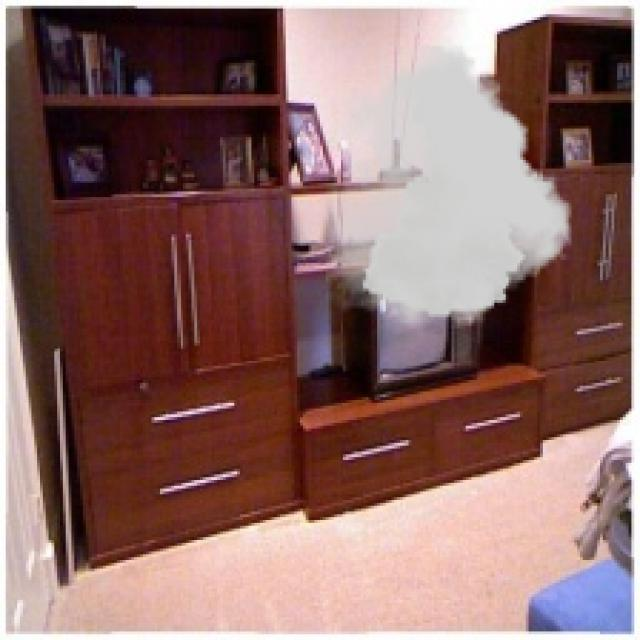Smoke: (326, 45, 572, 328)
